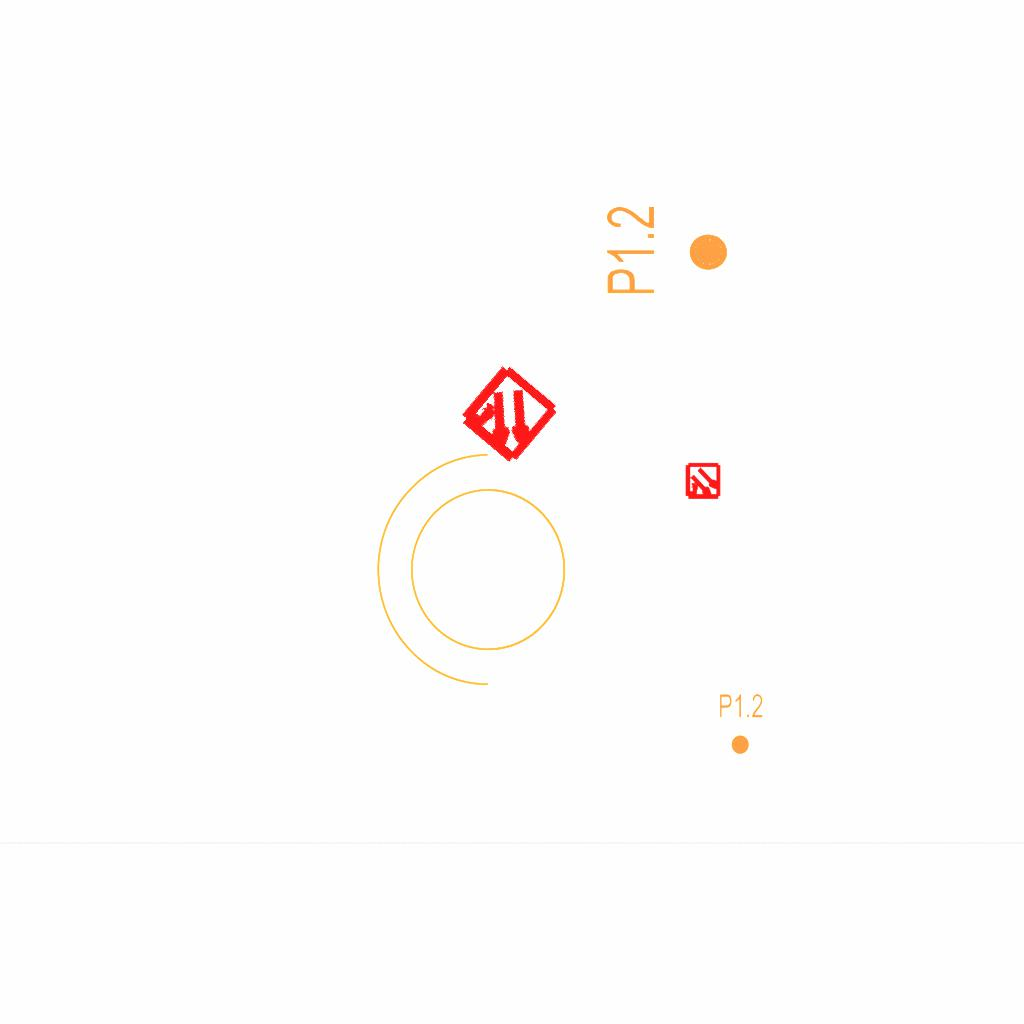Downlight_LED_Einbauleuchten_Flur: (603, 204, 731, 297), (718, 692, 764, 756)
OT_Multisensormelder_(Kombination_RMO_WMD): (427, 335, 588, 496), (675, 454, 731, 510)
Scheinwerfer_fuer_Alarmbeleuchtung: (366, 444, 591, 708)
